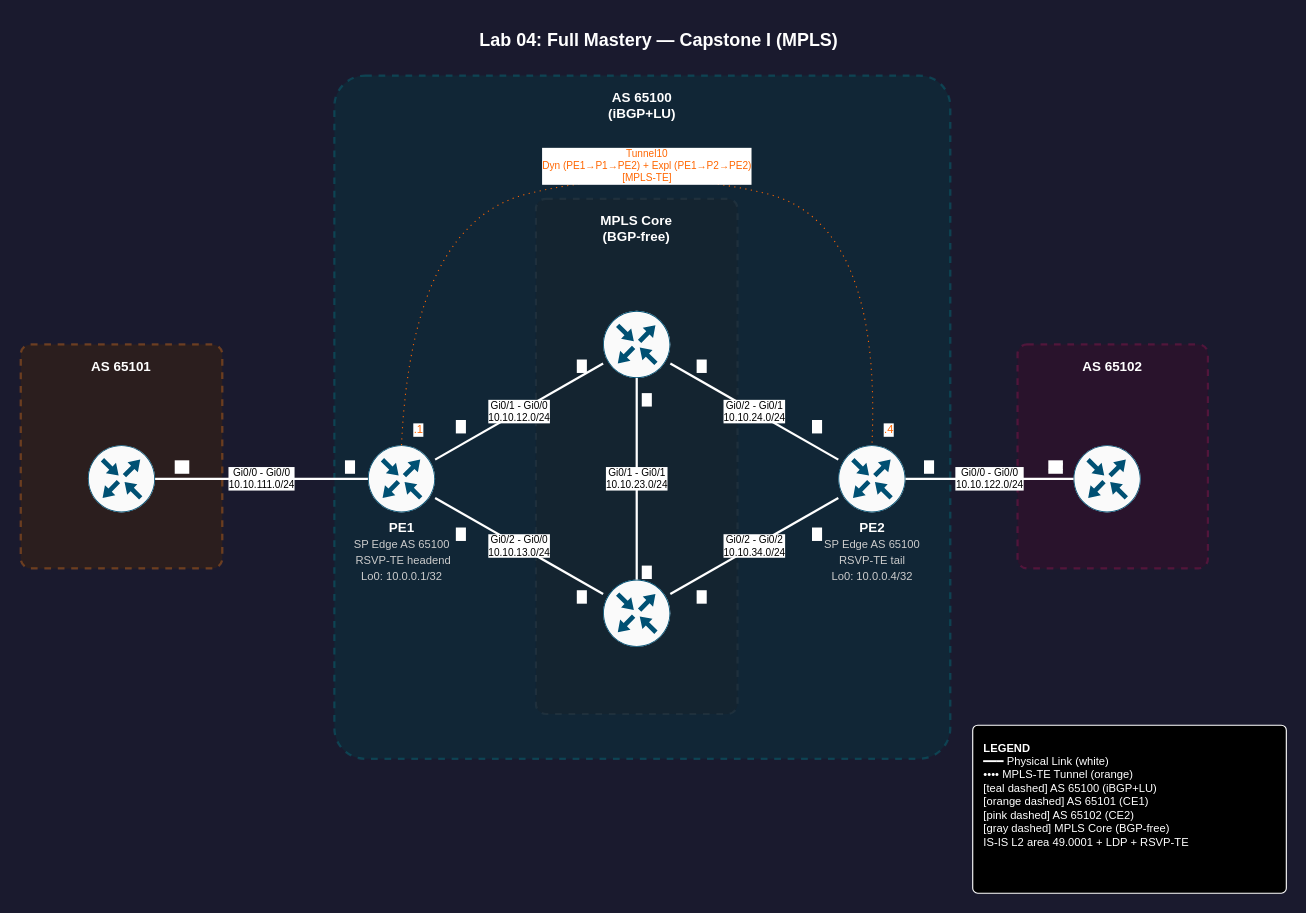
Some shapes in this 1306 by 913 pixel diagram are drawn without their labels. The shapes that lost their labels are listed below. From the top down, each one's box as (x1, y1, x2, y2) in pixels, then its label:
(602, 310, 670, 378): P1 SP Core (BGP-free) Lo0: 10.0.0.2/32
(87, 444, 155, 512): CE1 Customer Edge AS 65101 Lo0: 10.0.0.11/32
(1072, 444, 1141, 512): CE2 Customer Edge AS 65102 Lo0: 10.0.0.12/32
(602, 578, 670, 647): P2 SP Core (BGP-free) Lo0: 10.0.0.3/32
